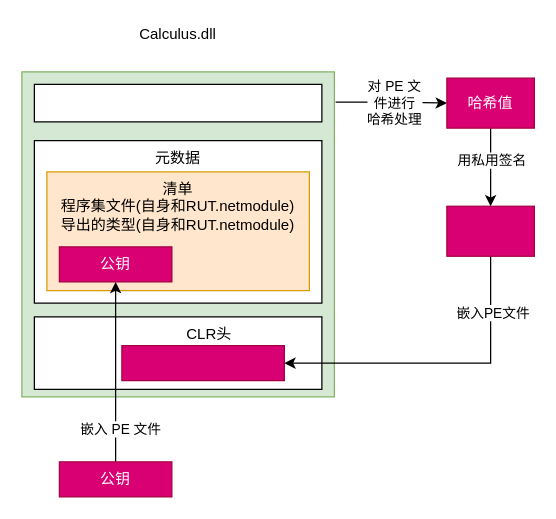
The diagram is 556 pixels wide and 519 high, and some of its shapes have lost their labels. The shapes that lost their labels are listed below. From the top down, each one's centre as x and y in pixels, then its label:
(177,102): IL
(490,230): RSA数字 签名
(202,362): RSA数字签名
